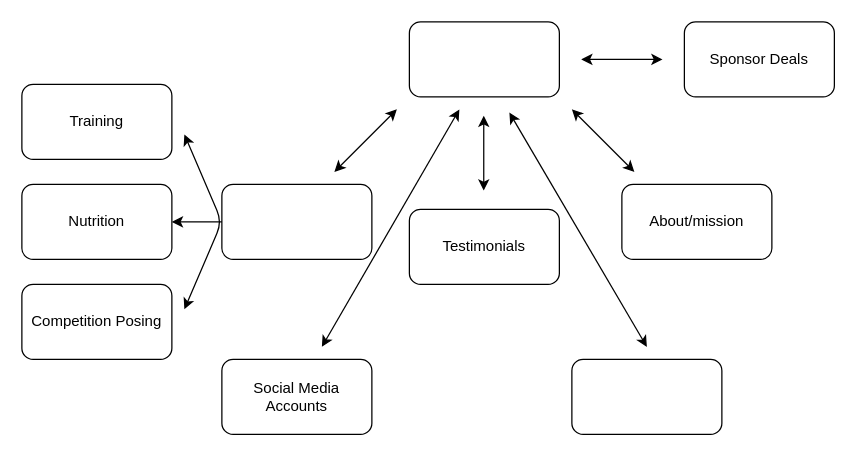
Some shapes in this 856 by 456 pixel diagram are drawn without their labels. The shapes that lost their labels are listed below. From the top down, each one's centre as x and y in pixels, then its label:
At [483,59]: "Home".
At [296,221]: "Services".
At [646,396]: "Contact".
